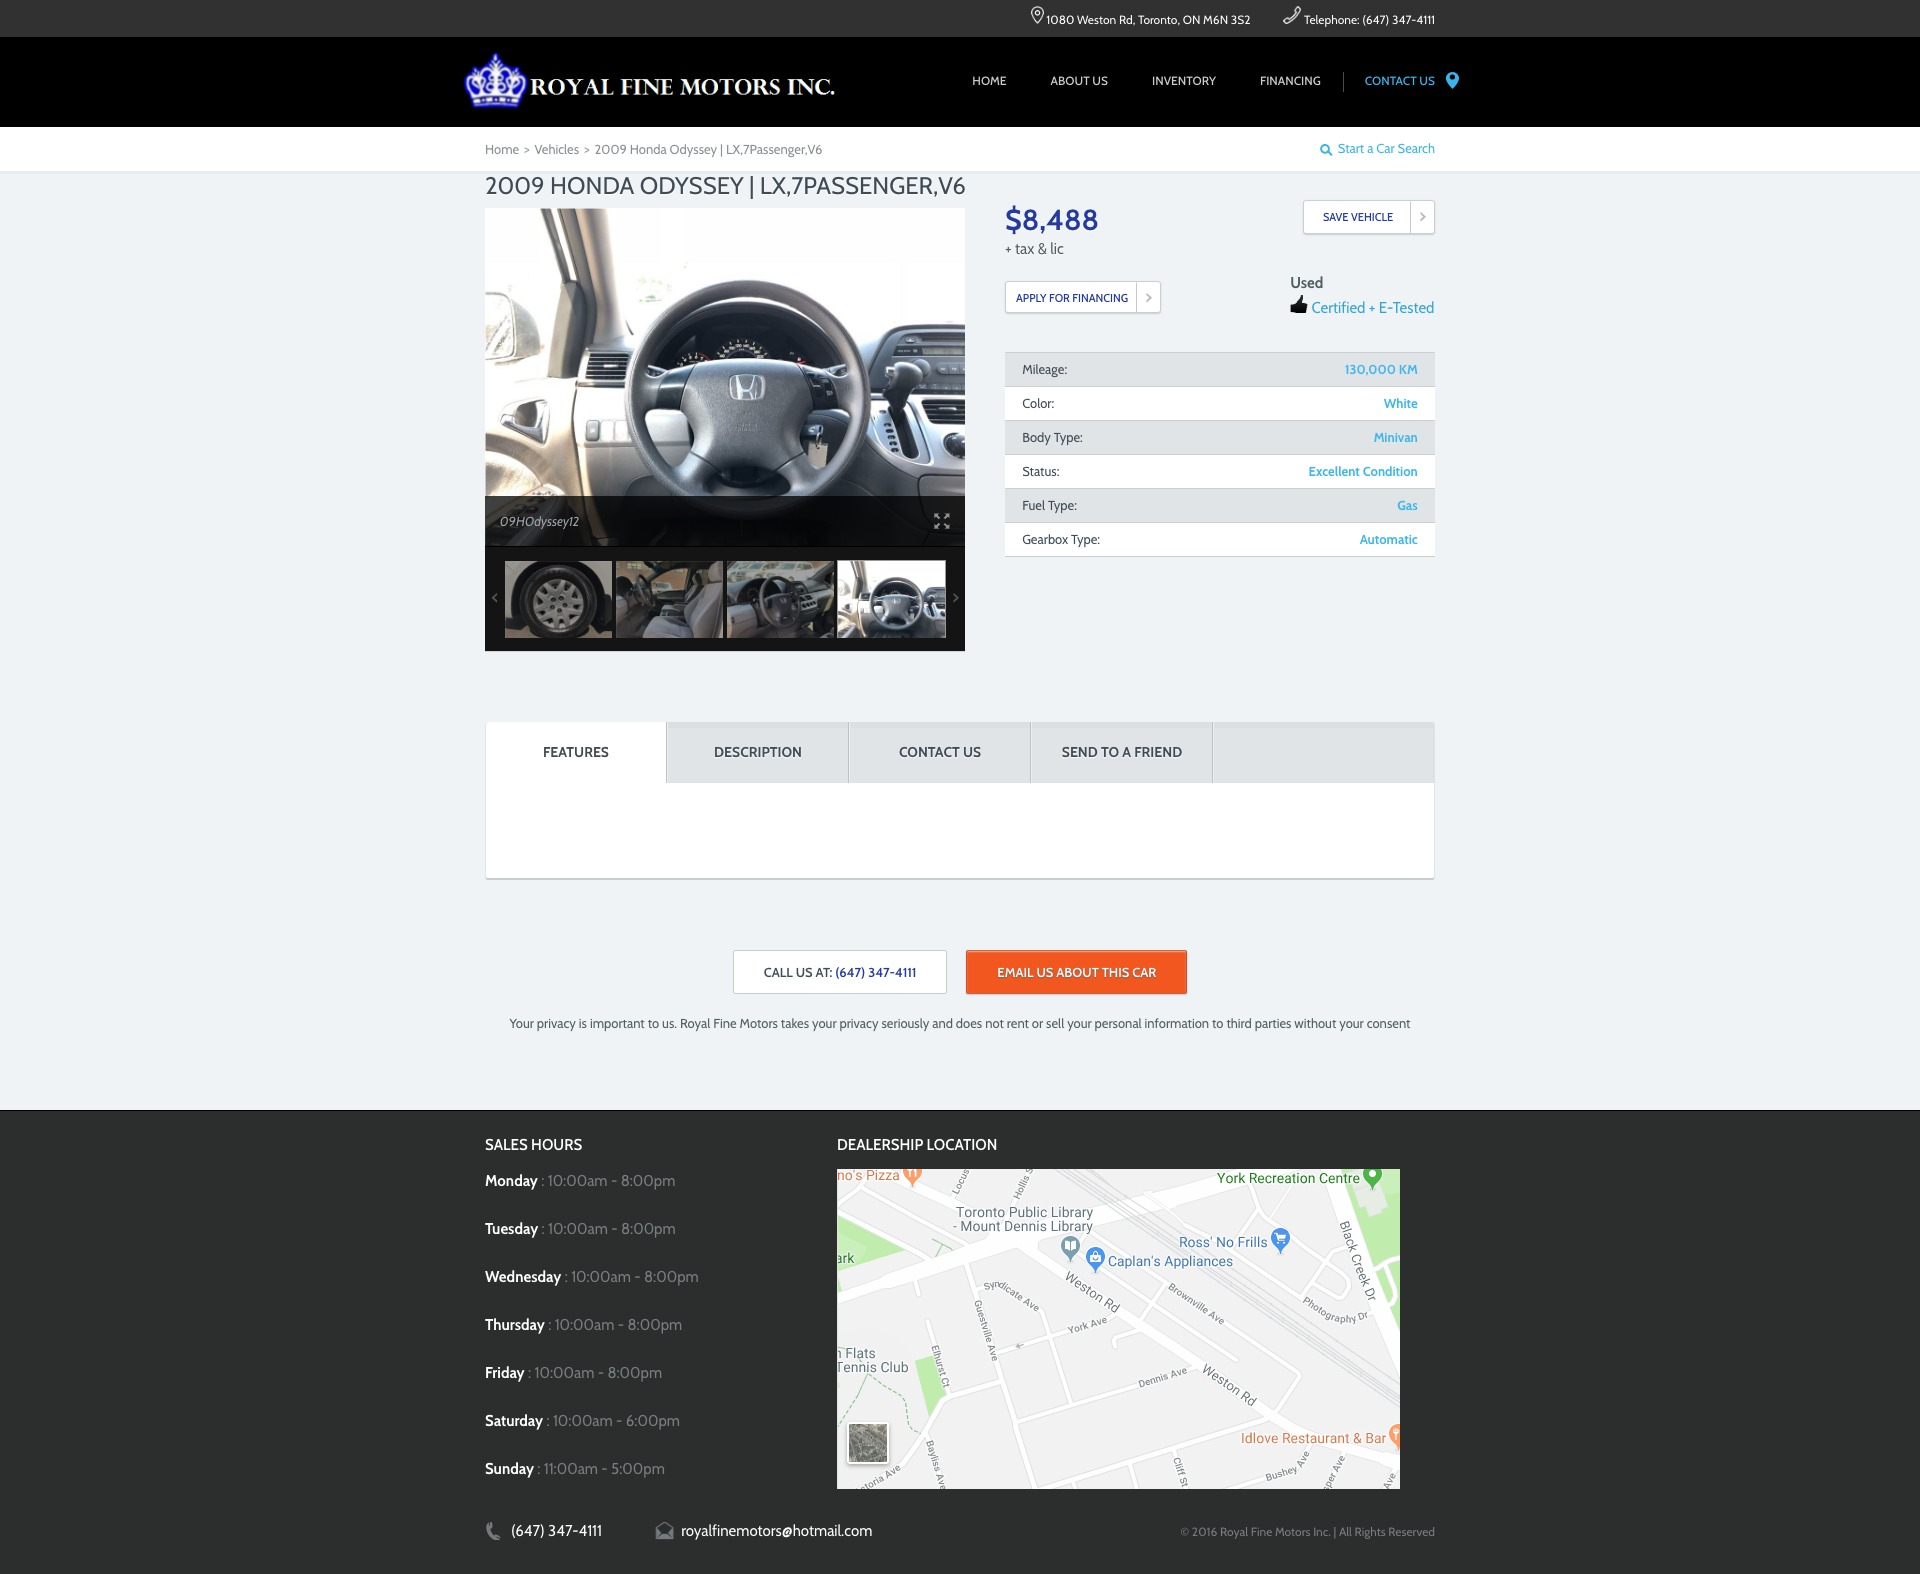car: (952, 593, 960, 604)
